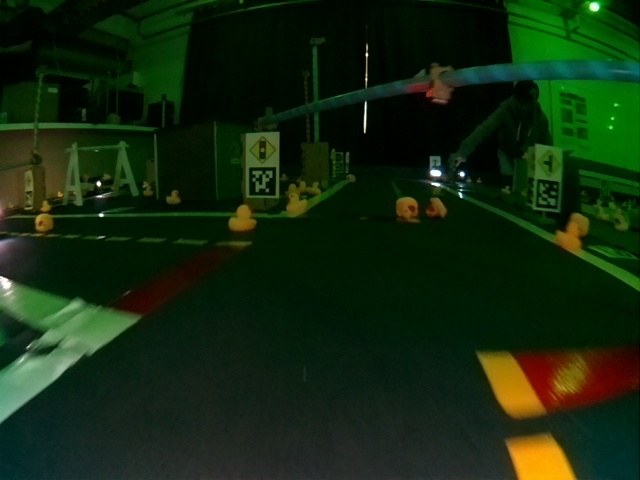Duckie: (557, 223, 582, 251), (229, 205, 255, 230), (396, 197, 419, 218), (287, 191, 307, 213), (427, 197, 447, 218), (35, 214, 54, 231), (166, 190, 180, 205), (307, 182, 321, 194)
Intersection sign: (537, 149, 561, 177)
QR code: (249, 166, 278, 195), (535, 178, 558, 208)
Signal sign: (249, 136, 277, 164)
Traffic light: (427, 63, 452, 103)
